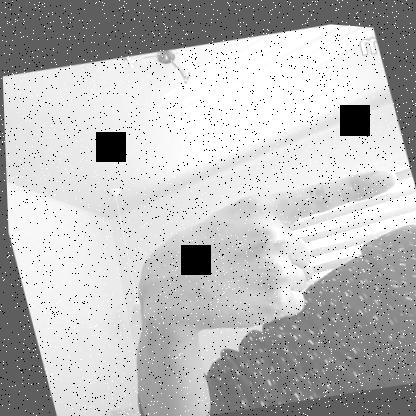G: (110, 143, 415, 358)
